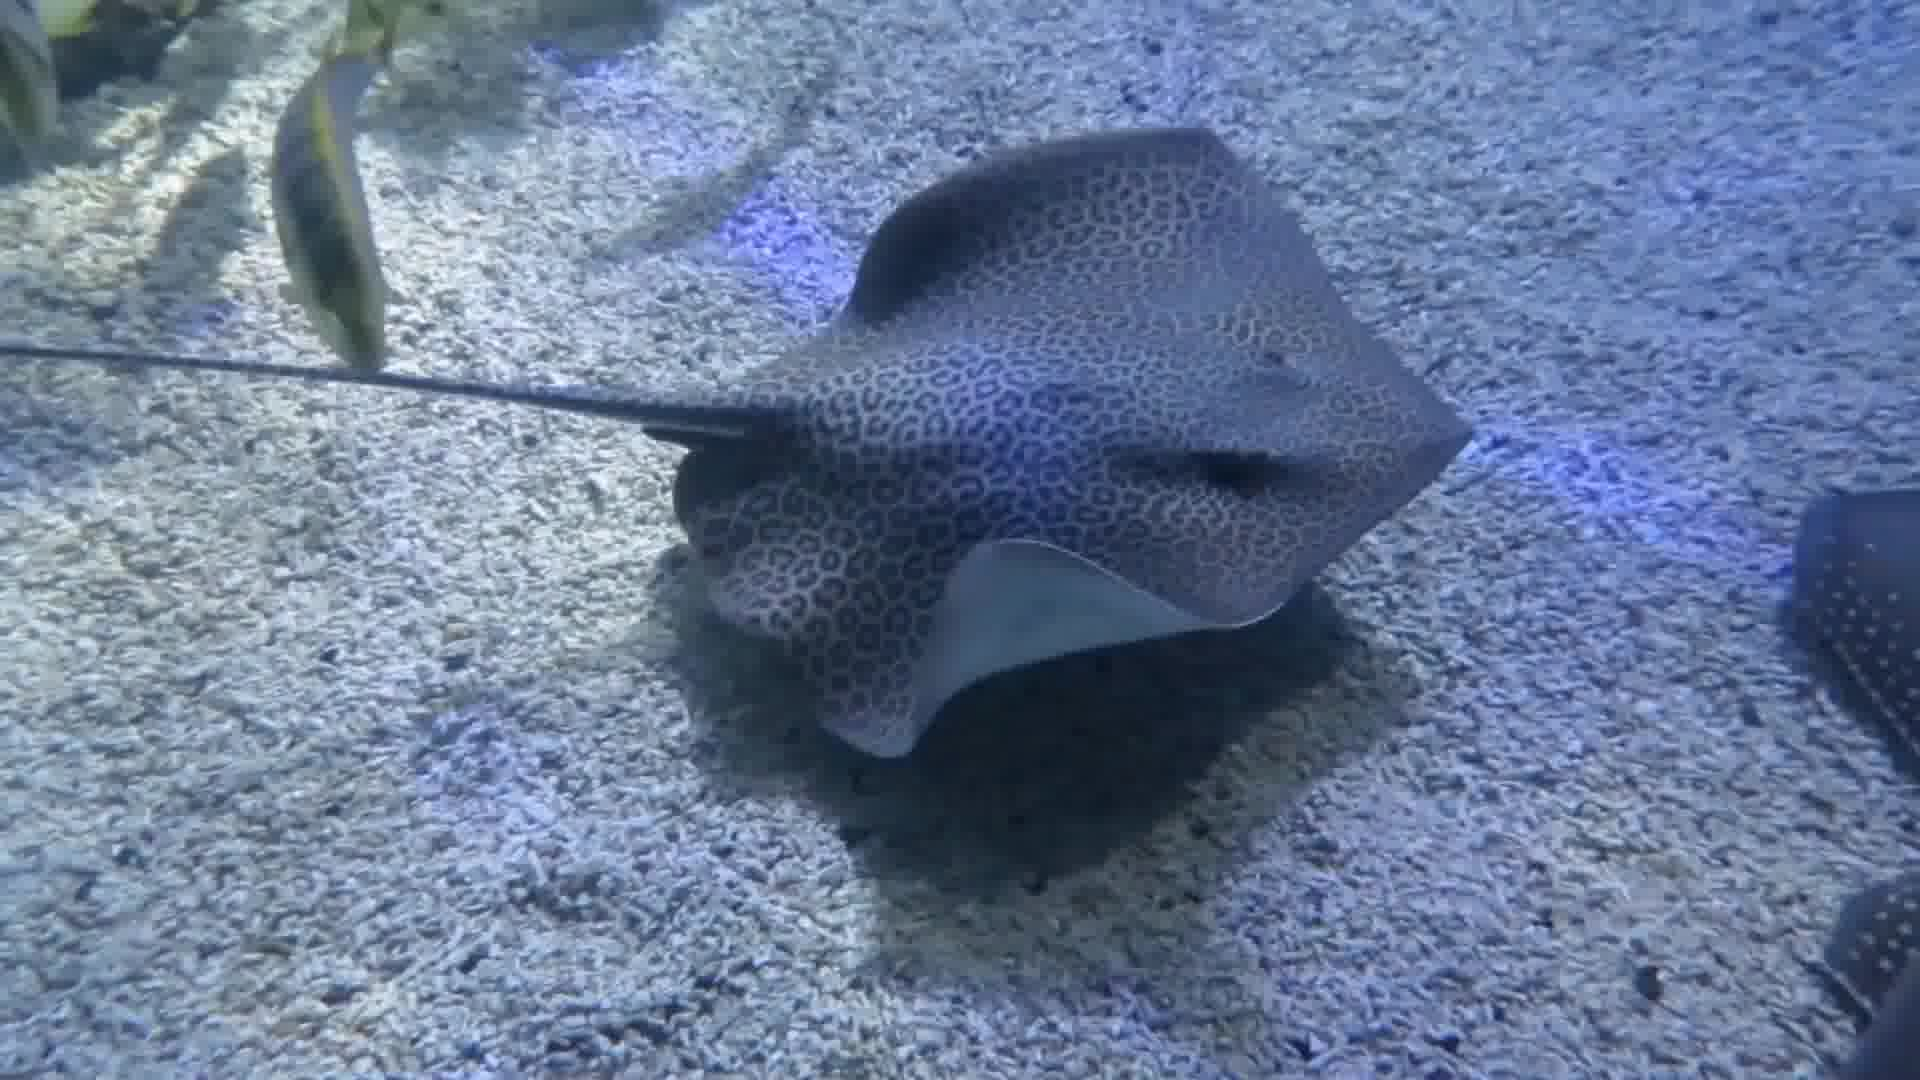Himantura uarnak: (1, 109, 1619, 771)
